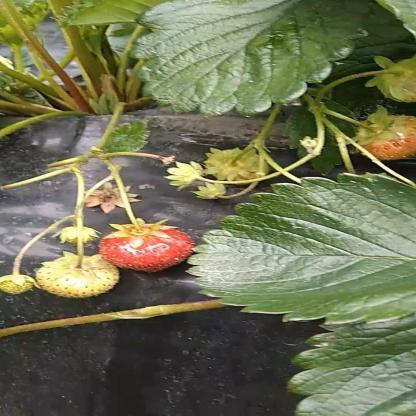ripe: (99, 224, 198, 274), (346, 109, 416, 166)
unripe: (37, 251, 124, 303), (0, 272, 39, 298)
